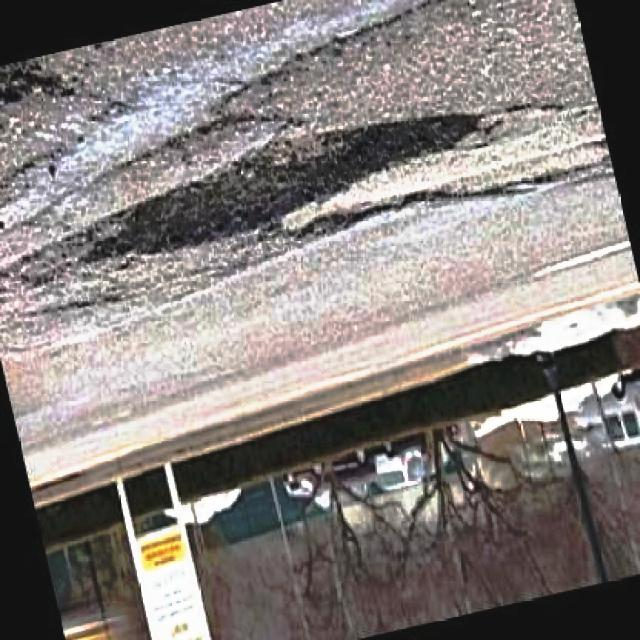pothole: (72, 103, 506, 271), (277, 177, 558, 249)
